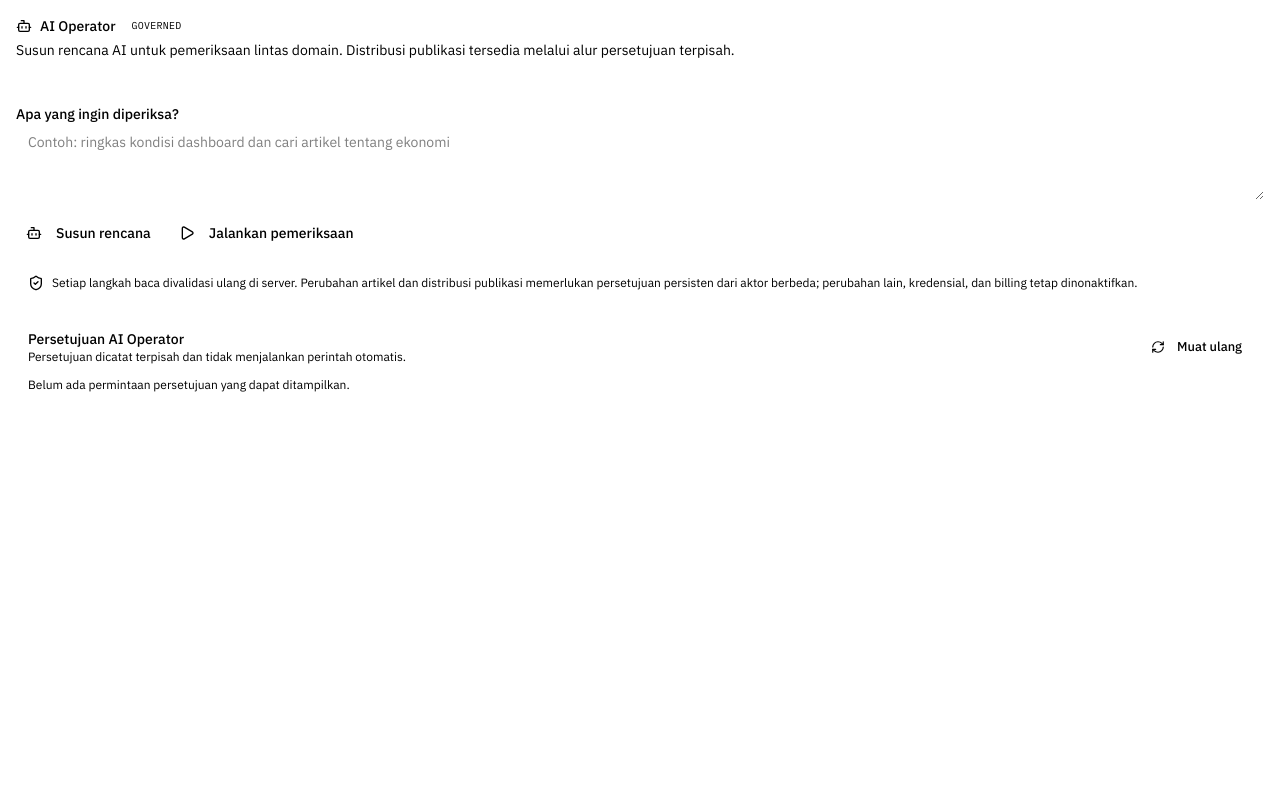
AiOperatorConsole › plans then runs a read-only check
Expected: the text "Belum ada permintaan persetujuan yang dapat ditampilkan." is shown, 28,377 -> 350,392
Replace the text in the text box labelled "Apa yang ingin diperiksa?" with "Ringkas kondisi dashboard". click: (640, 162)
box: 16,124 -> 1264,200
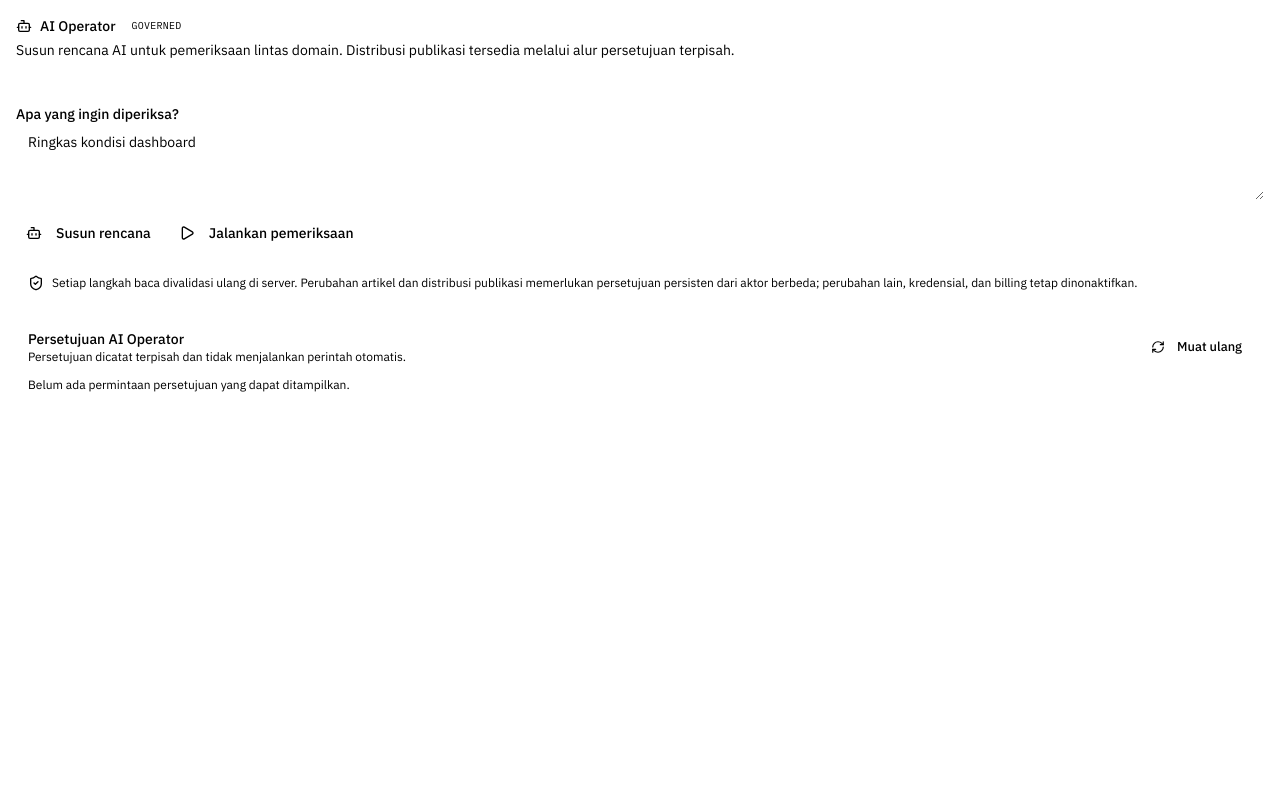
Click the button "Susun rencana". click: (88, 233)
box: 16,217 -> 161,249
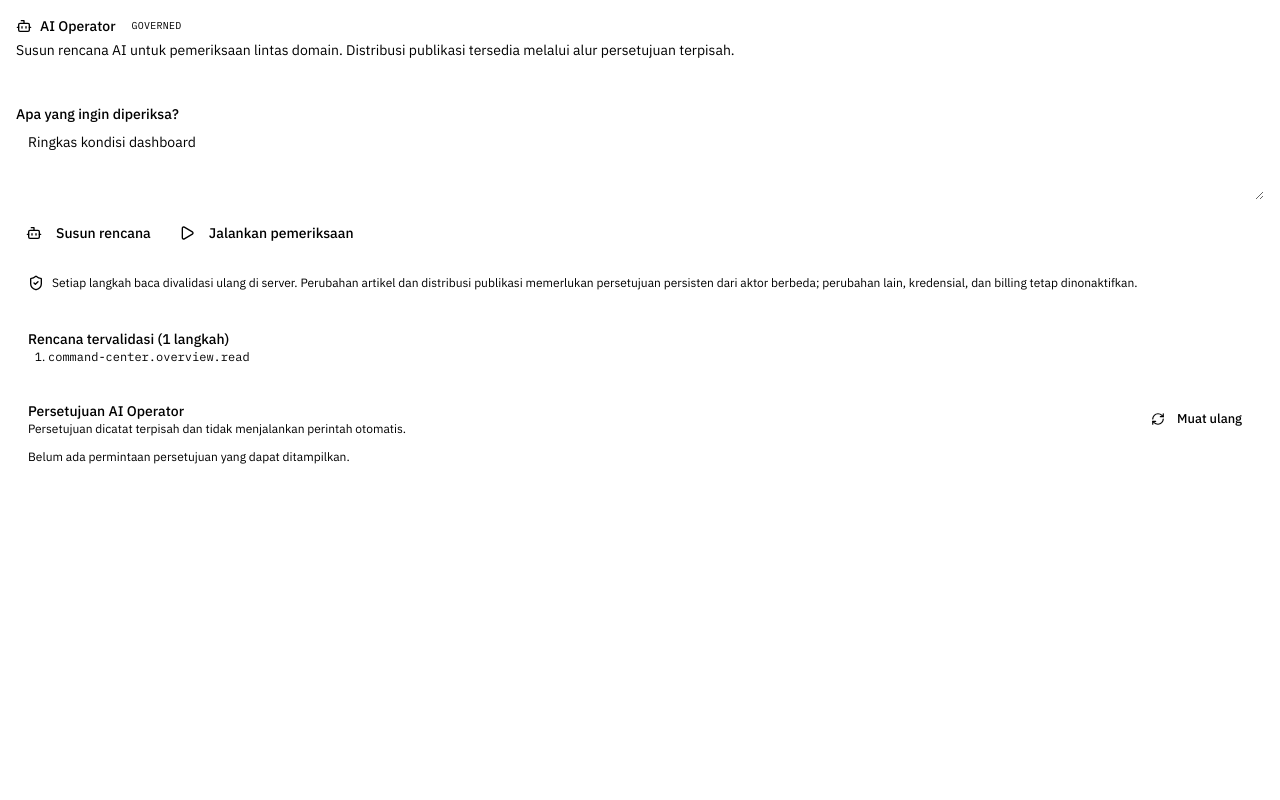
Result: the text "Rencana tervalidasi (1 langkah)" is shown at 28,330 -> 229,348
Click the button "Jalankan pemeriksaan". click: (266, 233)
box: 169,217 -> 364,249
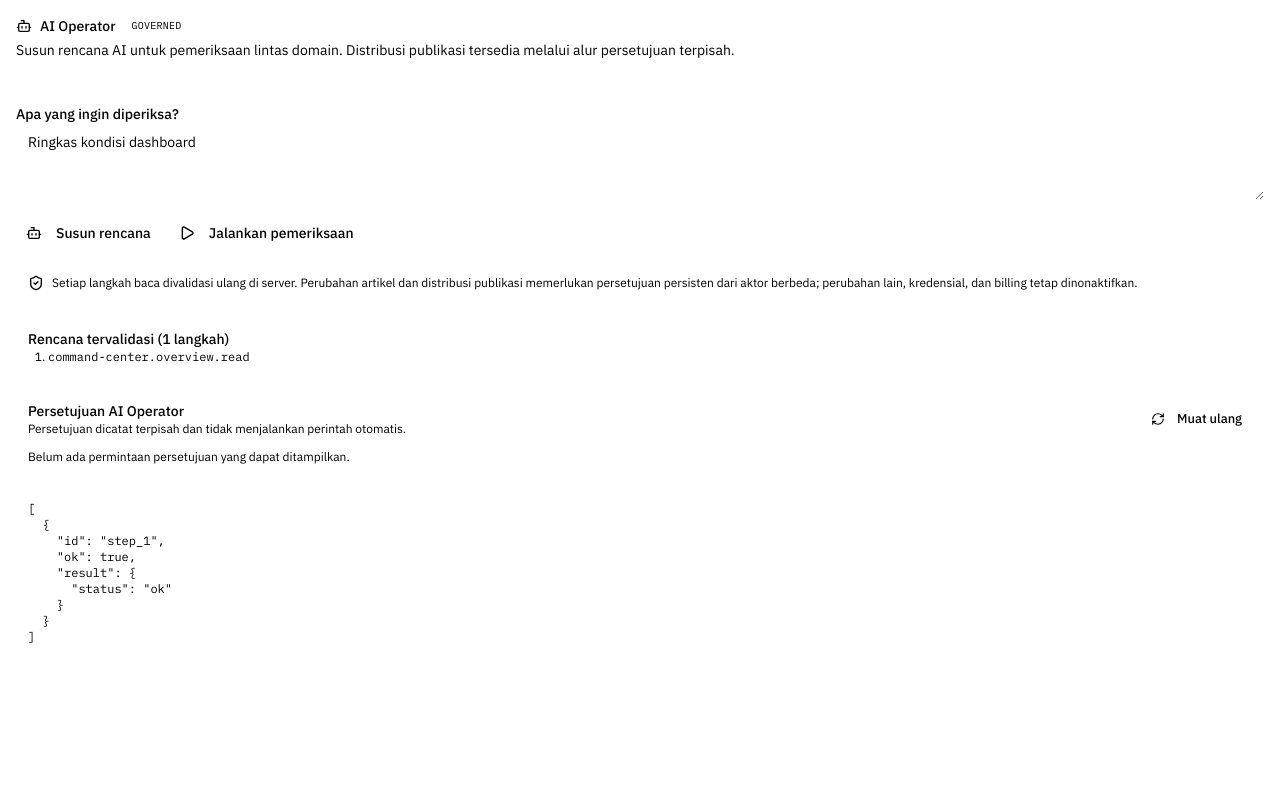
Result: the text "\"status\": \"ok\"" is shown at 28,501 -> 172,644
